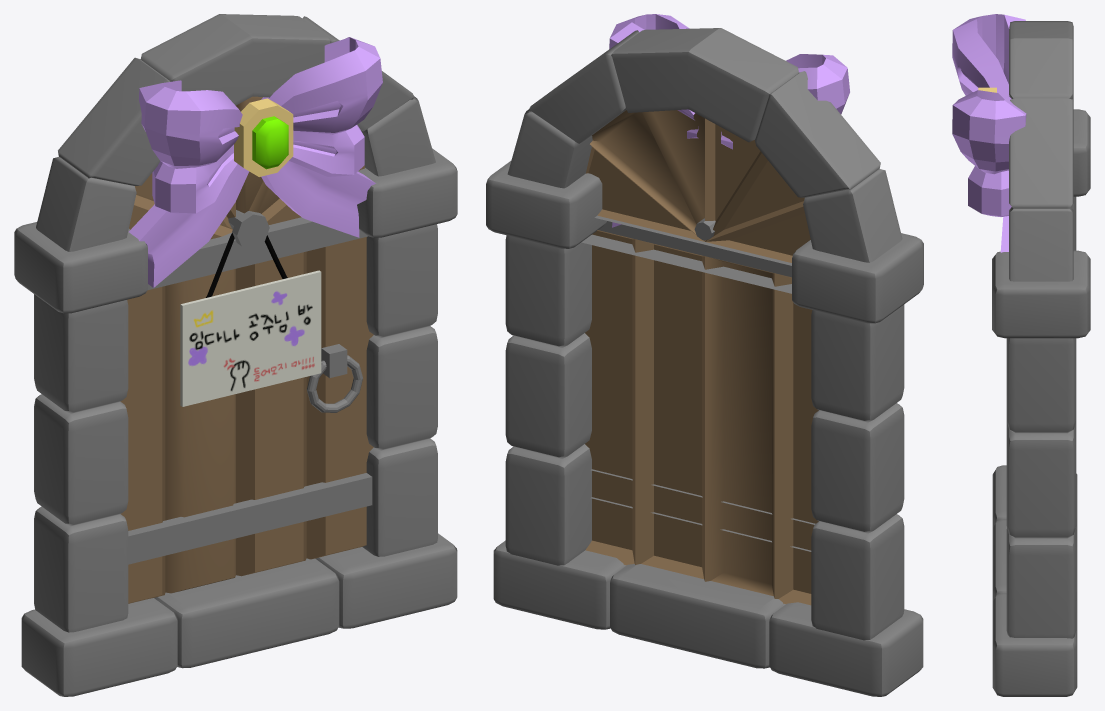
Rendered from door3.fbx.
3 renders of one model, left to right at view 1: azimuth 30°, elevation 25°; view 2: azimuth 150°, elevation 25°; view 3: azimuth 270°, elevation 25°, orthographic. The views are drawn at different scales.
Visible parts, largest first — view 1: door; view 2: door; view 3: door.
Boxes of the visible parts, box(x1,y1,x2,y2) form: door: box(14, 14, 457, 696); door: box(486, 14, 923, 696); door: box(952, 14, 1090, 696).
Bounding box in the file's own units: 224 × 326 × 71.67.
